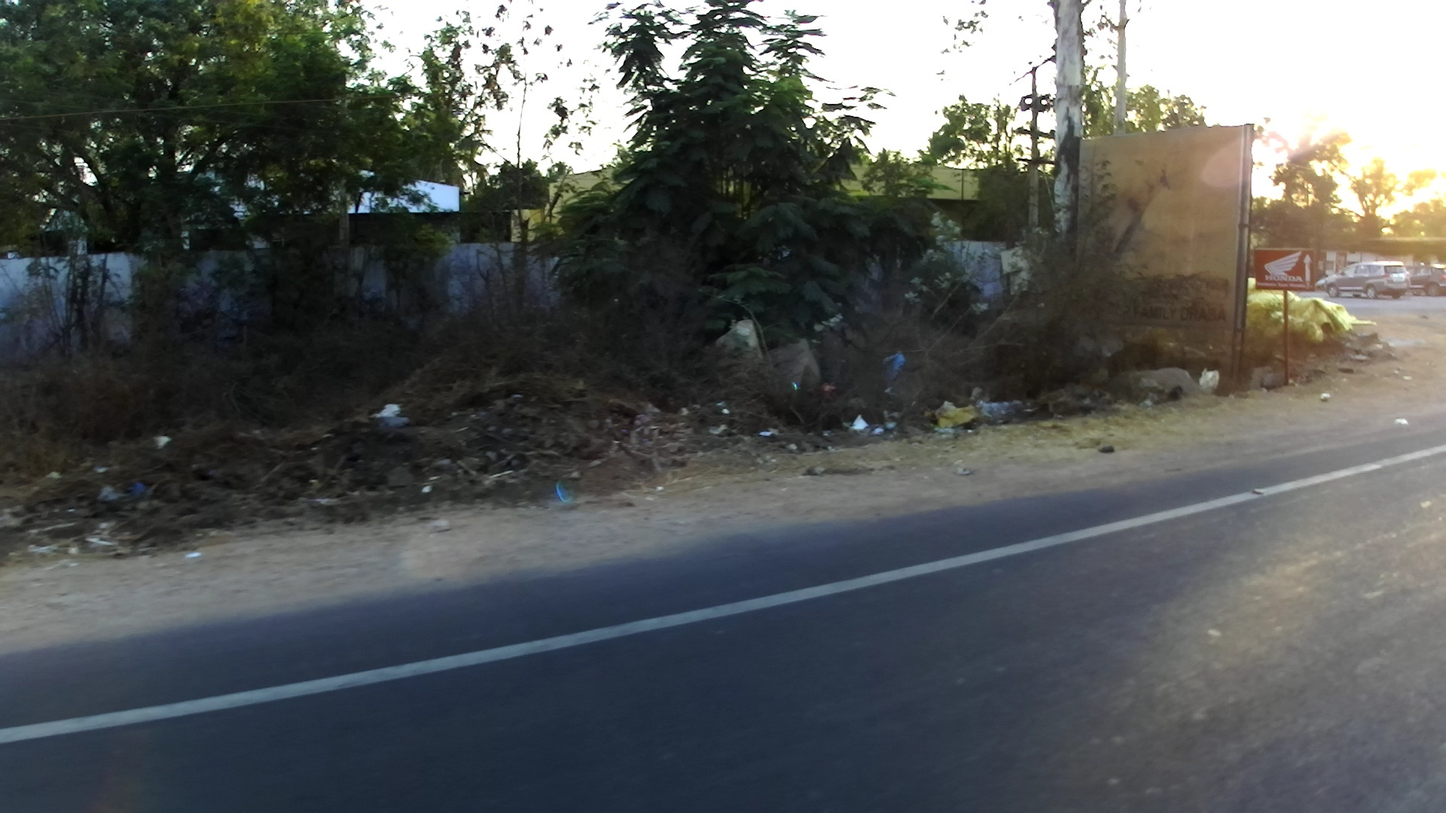car: (1316, 257, 1410, 307), (1404, 263, 1445, 301)
